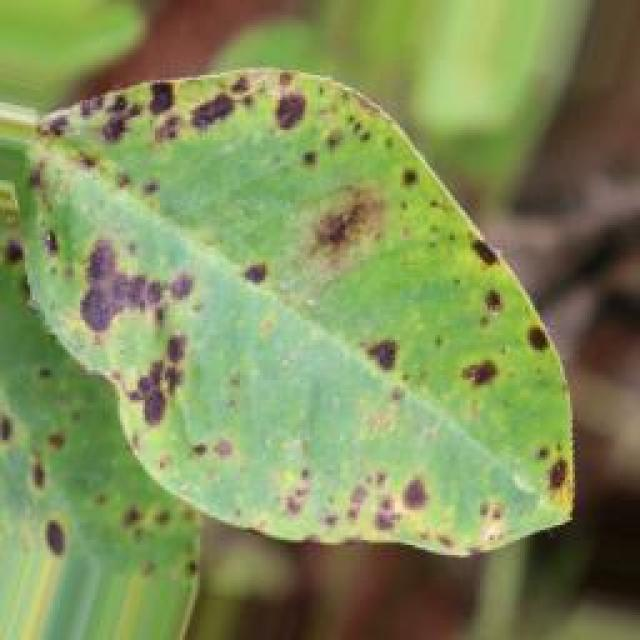Yellowish: (0, 64, 578, 591)
